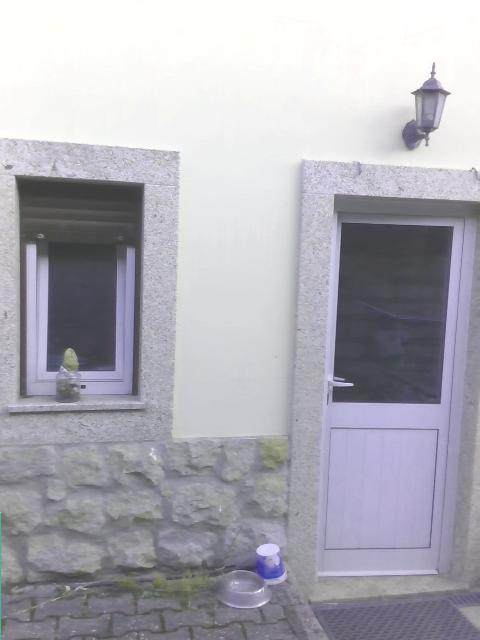closed_door: (312, 195, 479, 574)
